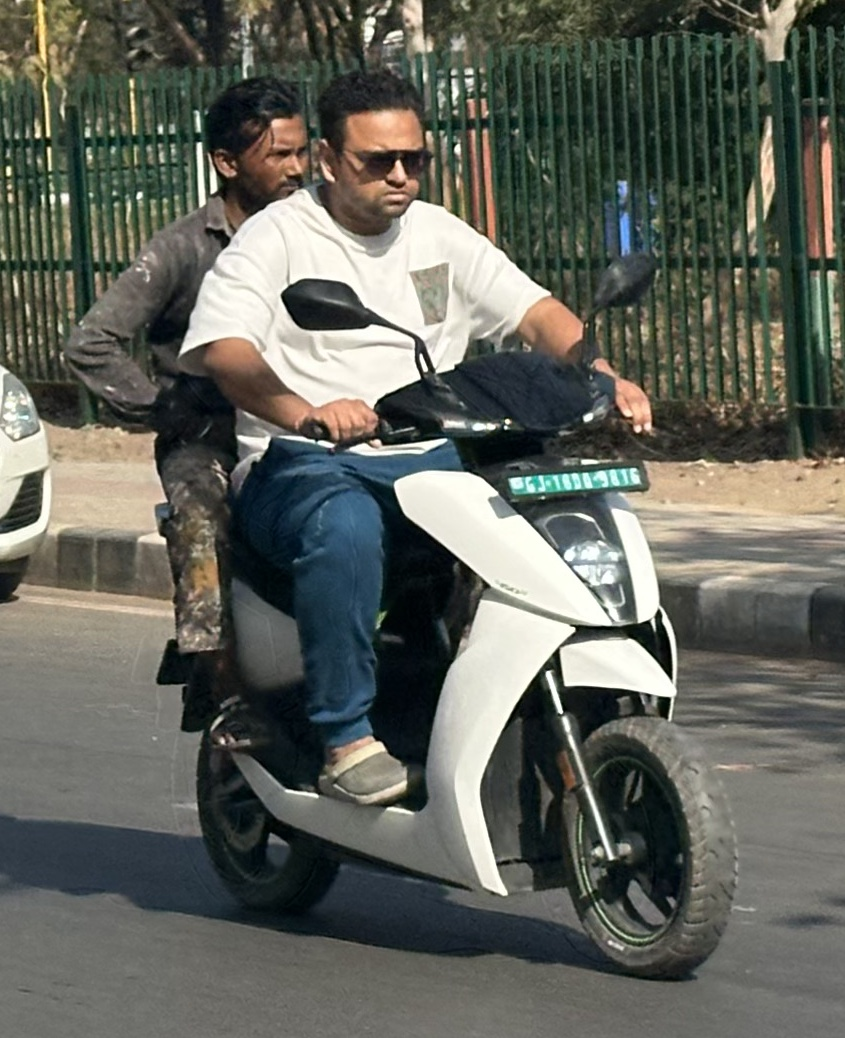BikeWithRider: (62, 62, 758, 979)
NoHelmet: (314, 64, 433, 225), (193, 75, 309, 211)
